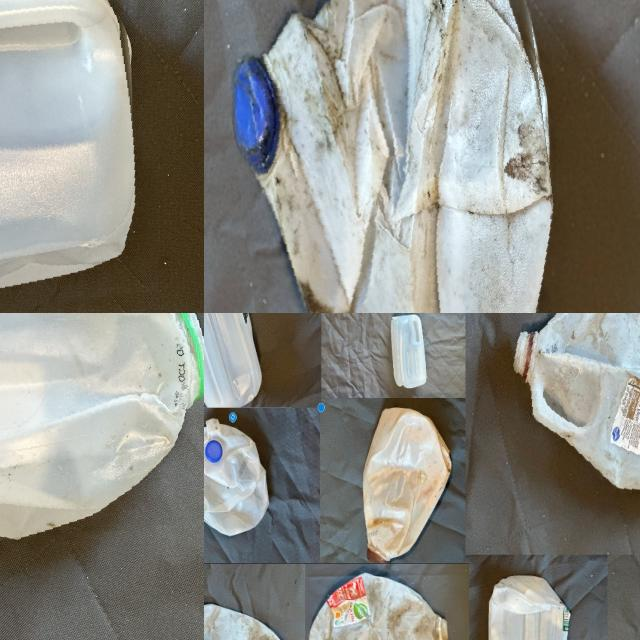milk-jug: (226, 0, 564, 313), (0, 313, 204, 556), (0, 0, 147, 313), (512, 313, 640, 504), (358, 403, 455, 560), (306, 574, 446, 640), (204, 418, 274, 536), (486, 571, 571, 640), (204, 313, 260, 411), (386, 313, 432, 389), (204, 604, 296, 640)
